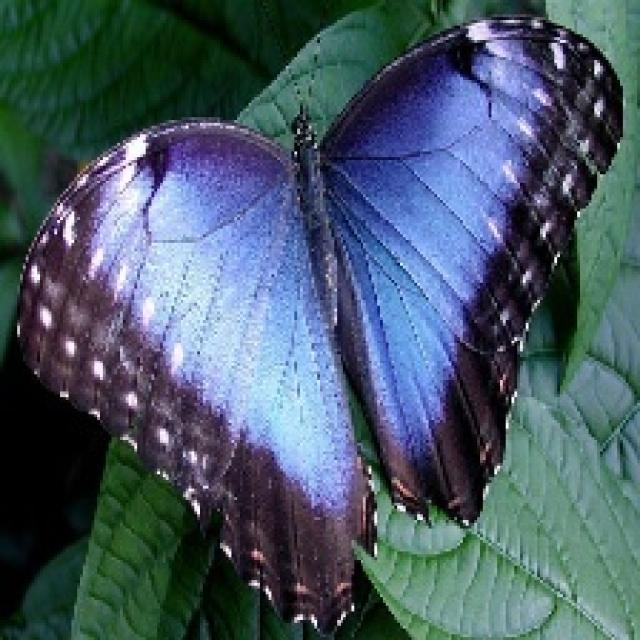butterfly: (11, 12, 623, 637)
